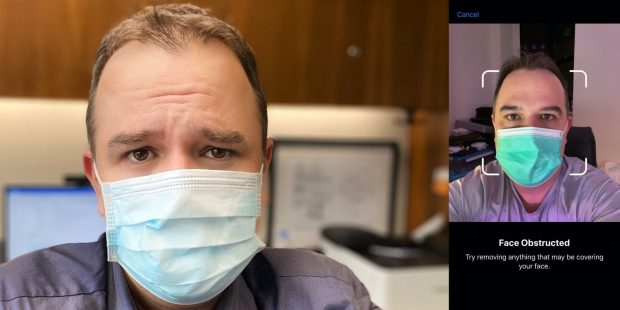Mask: (87, 44, 273, 301), (489, 66, 567, 188)
